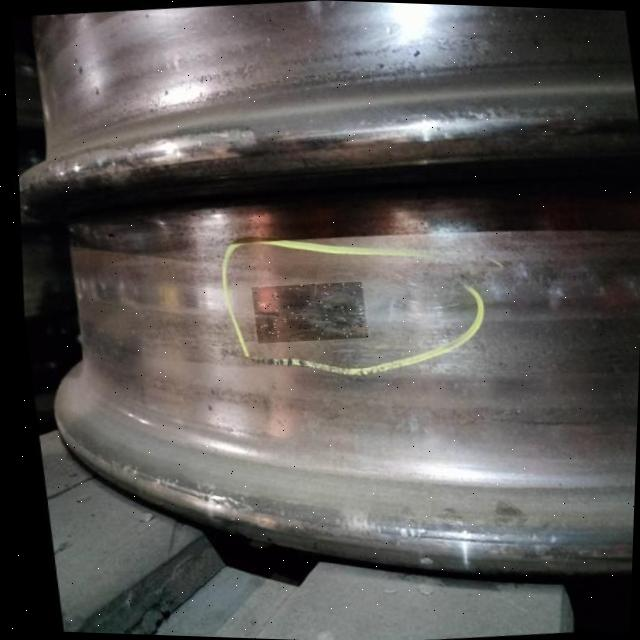flat: (209, 282, 464, 356)
